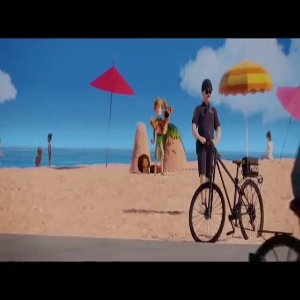Scooby: (162, 104, 172, 121)
Shagy: (152, 98, 162, 116)
